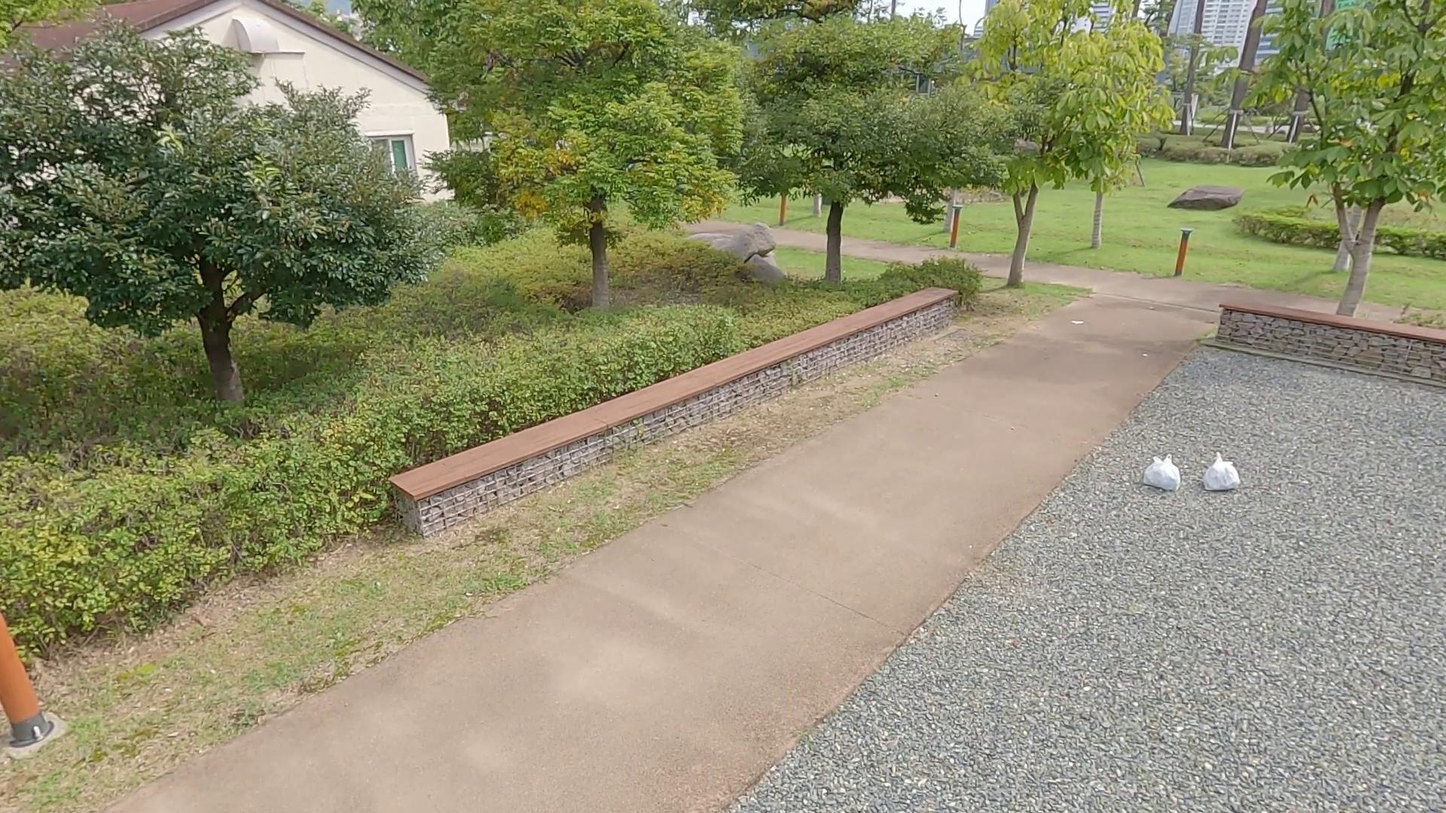trash: (1199, 448, 1245, 497), (1142, 446, 1184, 493)
